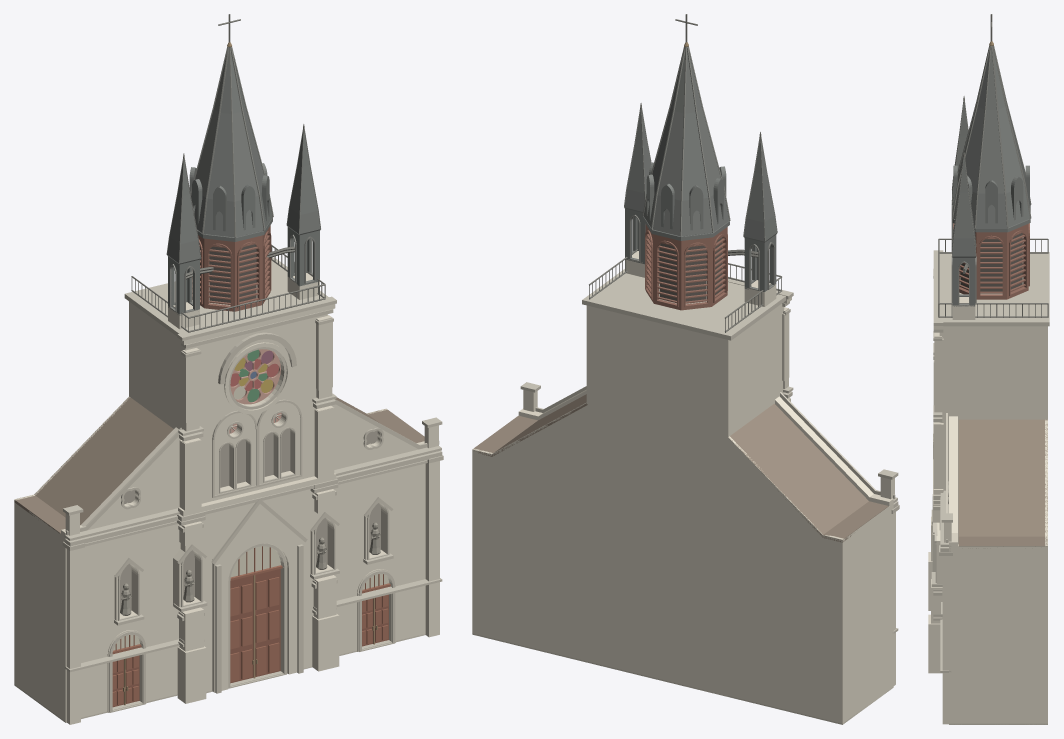
The model's file is huangpu-st-joseph-church-east-front-lod.glb.
3 renders of one model, left to right at view 1: azimuth 30°, elevation 25°; view 2: azimuth 150°, elevation 25°; view 3: azimuth 270°, elevation 25°, orthographic. The views are drawn at different scales.
Visible parts, largest first — view 1: 若瑟堂（四川南路36号东立面与钟塔）; view 2: 若瑟堂（四川南路36号东立面与钟塔）; view 3: 若瑟堂（四川南路36号东立面与钟塔）.
Part boxes in pixels (x1,y1,x2,y2): 若瑟堂（四川南路36号东立面与钟塔）: [14, 14, 443, 724]; 若瑟堂（四川南路36号东立面与钟塔）: [472, 14, 899, 724]; 若瑟堂（四川南路36号东立面与钟塔）: [928, 14, 1049, 724].
Bounding box in the file's own units: 22.07 × 36.5 × 6.44.
